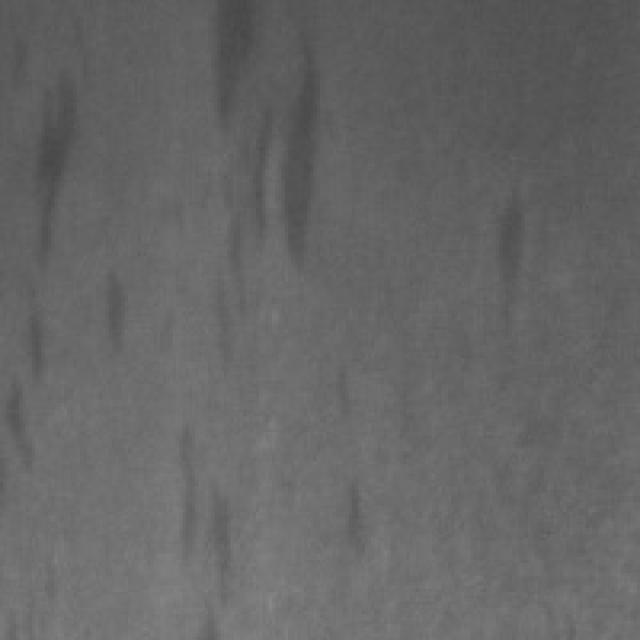inclusion: (3, 22, 115, 470), (176, 0, 282, 371), (266, 16, 339, 278), (166, 410, 237, 627), (470, 170, 548, 358), (83, 246, 138, 362), (326, 467, 381, 560)
